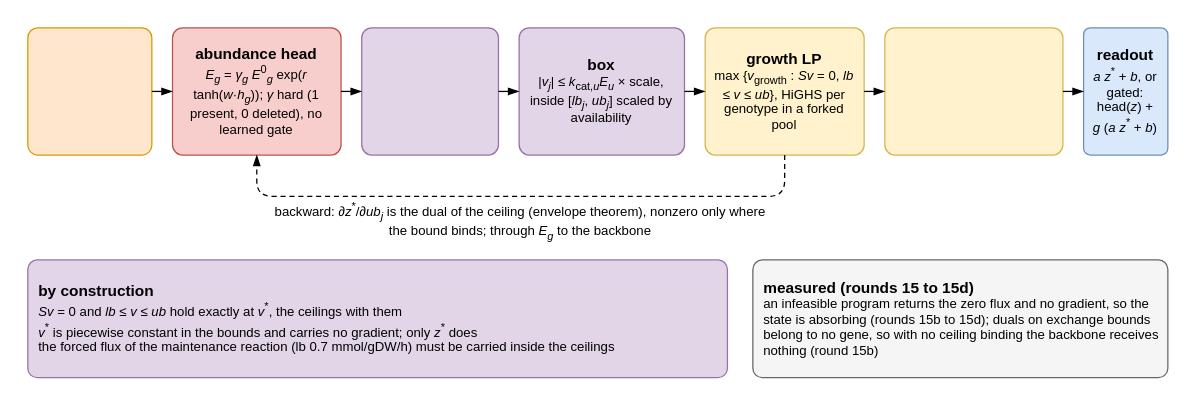
This 1196x405 diagram has some shape labels left out. The centre of each missing label's shape, as x and y in pixels:
"gene tokens h g from the backbone, perturbed graph" belongs at [89,90].
"optimum v * , z *" belongs at [973,90].
"unit abundance E u : power mean over a complex's subunits, sum over isozymes" belongs at [429,90].
